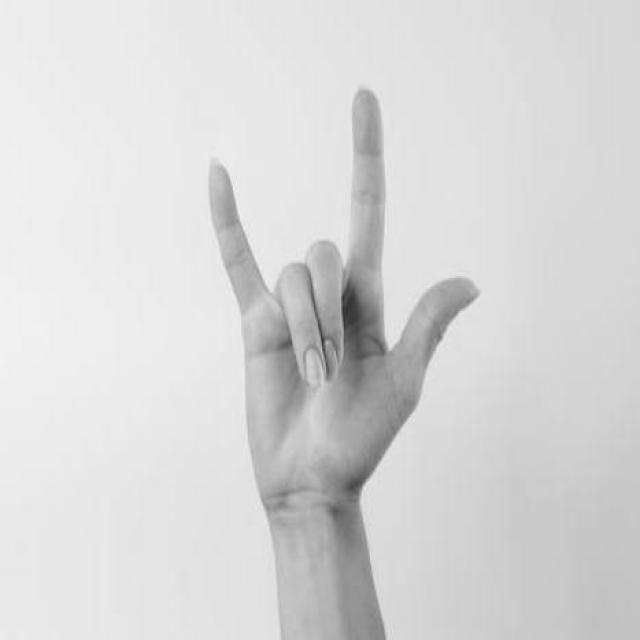i love you: (202, 78, 487, 530)
